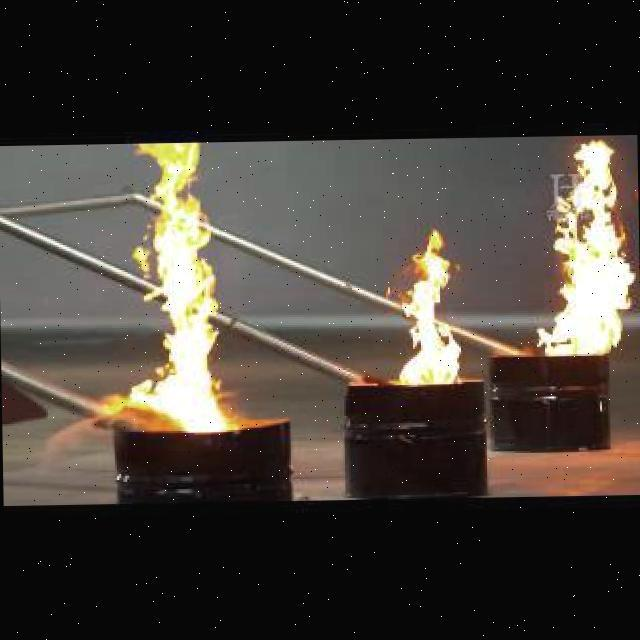Fire: (107, 148, 232, 428), (525, 141, 631, 359), (387, 230, 464, 389)
